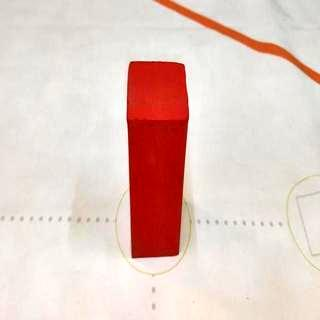redbox: (124, 59, 190, 260)
